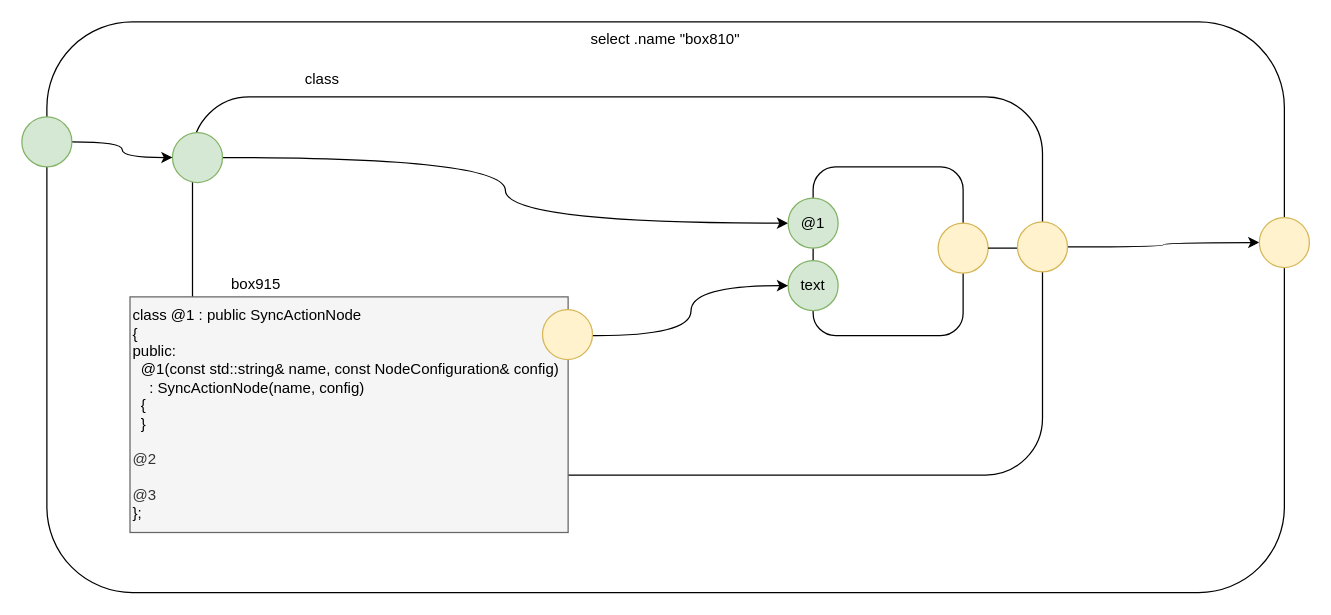
Some shapes in this 1331 by 615 pixel diagram are drawn without their labels. Each missing label, with the box of its shape:
edit "box916": (812, 166, 963, 336)
sub-script "box914": (191, 96, 1042, 475)
